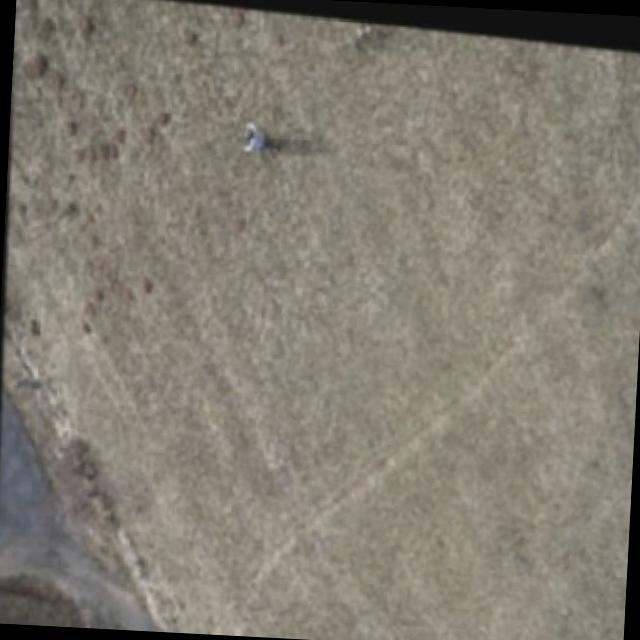Person: (232, 112, 279, 156), (347, 17, 378, 52)
